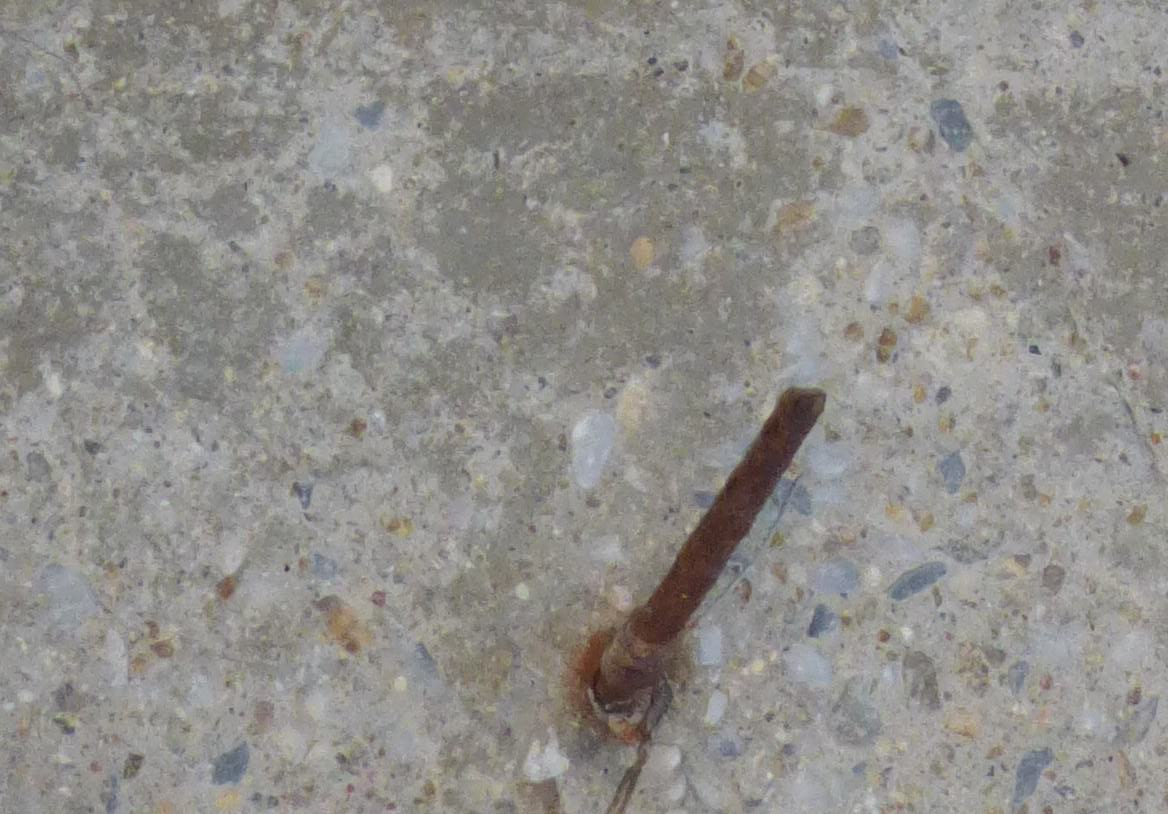Exposed reinforcement: (595, 384, 827, 713)
